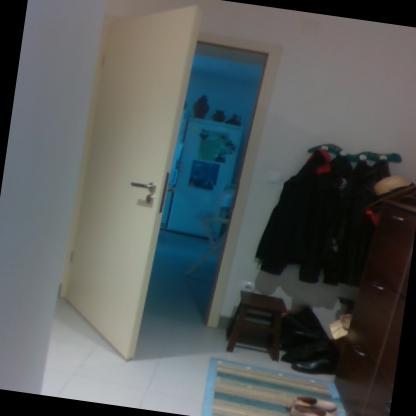semi: (53, 3, 278, 373)
